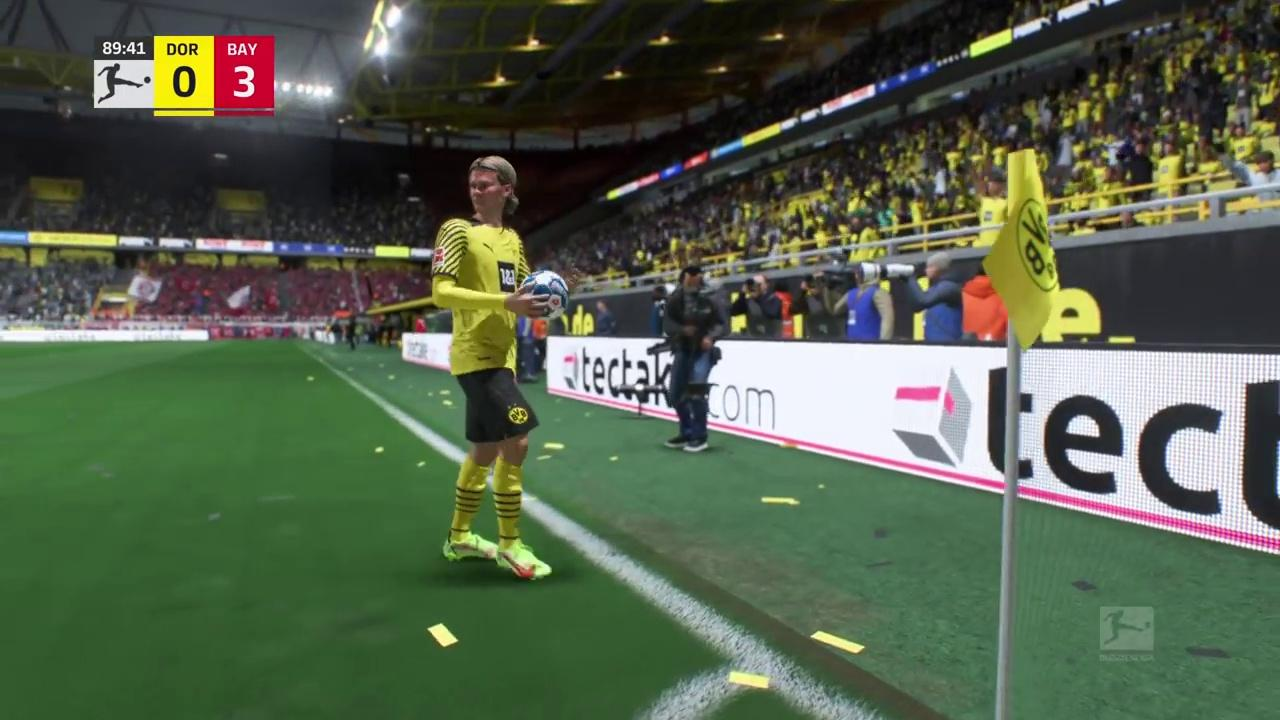scoreboard: (156, 38, 275, 118)
timestamp: (95, 36, 155, 60)
